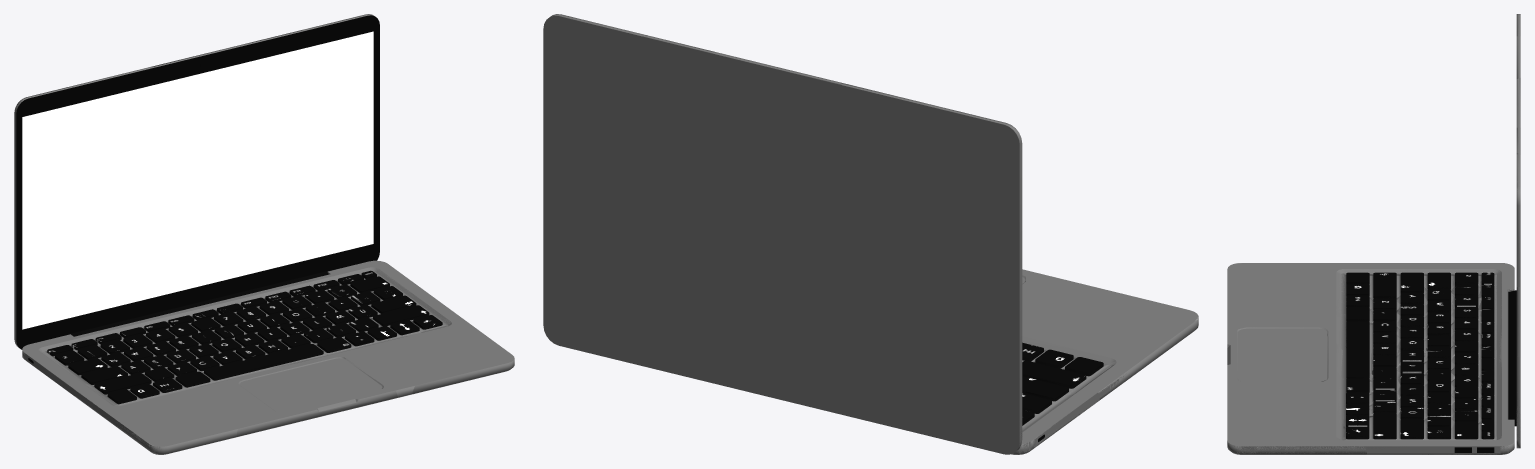
3 renders of one model, left to right at view 1: azimuth 30°, elevation 25°; view 2: azimuth 150°, elevation 25°; view 3: azimuth 270°, elevation 25°, orthographic. The views are drawn at different scales.
Parts seen in each view (by area): view 1: Screen, Frame, Frame_ComputerFrame_0_cell.003, Frame_ComputerFrame_0_cell.005, Frame_ComputerFrame_0_cell.011, Frame_ComputerFrame_0_cell.006, Frame_ComputerFrame_0_cell.008, Frame_ComputerFrame_0_cell.002, Frame_ComputerFrame_0_cell.010, Frame_ComputerFrame_0_cell.012, Frame_ComputerFrame_0_cell.009, Frame_ComputerFrame_0_cell.007 (+1 smaller); view 2: Screen_ComputerScreen_0_cell.002, Screen_ComputerScreen_0_cell.005, Screen_ComputerScreen_0_cell.006, Screen_ComputerScreen_0_cell.003, Screen_ComputerScreen_0_cell, Frame_ComputerFrame_0_cell.003, Screen_ComputerScreen_0_cell.011, Frame, Screen_ComputerScreen_0_cell.012, Screen_ComputerScreen_0_cell.001, Screen_ComputerScreen_0_cell.008, Screen_ComputerScreen_0_cell.009 (+4 smaller); view 3: Frame, Frame_ComputerFrame_0_cell.003, Frame_ComputerFrame_0_cell.011, Frame_ComputerFrame_0_cell.012, Frame_ComputerFrame_0_cell.008, Frame_ComputerFrame_0_cell.002, Frame_ComputerFrame_0_cell.010, Frame_ComputerFrame_0_cell.005, Frame_ComputerFrame_0_cell.006, Frame_ComputerFrame_0_cell.009, Frame_ComputerFrame_0_cell.004, Frame_ComputerFrame_0_cell.007 (+5 smaller).
Part boxes in pixels (<box>): Screen: <box>14,14,379,349</box>; Frame: <box>22,261,514,454</box>; Frame_ComputerFrame_0_cell.003: <box>74,359,237,454</box>; Frame_ComputerFrame_0_cell.005: <box>411,315,514,394</box>; Frame_ComputerFrame_0_cell.011: <box>331,260,449,335</box>; Frame_ComputerFrame_0_cell.006: <box>299,322,415,397</box>; Frame_ComputerFrame_0_cell.008: <box>247,261,371,335</box>; Frame_ComputerFrame_0_cell.002: <box>132,310,231,369</box>; Frame_ComputerFrame_0_cell.010: <box>216,343,397,437</box>; Frame_ComputerFrame_0_cell.012: <box>180,333,306,400</box>; Frame_ComputerFrame_0_cell.009: <box>189,294,280,335</box>; Frame_ComputerFrame_0_cell.007: <box>22,344,114,388</box>; Screen_ComputerScreen_0_cell.002: <box>781,229,1021,438</box>; Screen_ComputerScreen_0_cell.005: <box>735,123,945,347</box>; Screen_ComputerScreen_0_cell.006: <box>568,233,793,402</box>; Screen_ComputerScreen_0_cell.003: <box>543,35,684,258</box>; Screen_ComputerScreen_0_cell: <box>644,35,756,286</box>; Frame_ComputerFrame_0_cell.003: <box>1022,288,1198,400</box>; Screen_ComputerScreen_0_cell.011: <box>926,109,1019,270</box>; Frame: <box>1018,270,1198,454</box>; Screen_ComputerScreen_0_cell.012: <box>713,52,853,132</box>; Screen_ComputerScreen_0_cell.001: <box>543,14,645,130</box>; Screen_ComputerScreen_0_cell.008: <box>840,82,951,172</box>; Screen_ComputerScreen_0_cell.009: <box>543,221,582,349</box>; Frame: <box>1227,263,1514,454</box>; Frame_ComputerFrame_0_cell.003: <box>1227,263,1435,314</box>; Frame_ComputerFrame_0_cell.011: <box>1339,397,1514,454</box>; Frame_ComputerFrame_0_cell.012: <box>1312,311,1426,378</box>; Frame_ComputerFrame_0_cell.008: <box>1397,371,1514,447</box>; Frame_ComputerFrame_0_cell.002: <box>1384,301,1508,351</box>; Frame_ComputerFrame_0_cell.010: <box>1227,304,1373,383</box>; Frame_ComputerFrame_0_cell.005: <box>1227,401,1366,454</box>; Frame_ComputerFrame_0_cell.006: <box>1251,375,1406,419</box>; Frame_ComputerFrame_0_cell.009: <box>1410,347,1508,379</box>; Frame_ComputerFrame_0_cell.004: <box>1429,268,1514,322</box>; Frame_ComputerFrame_0_cell.007: <box>1397,263,1514,293</box>.
Size of the model in its own units: 30.4 by 20.56 by 20.5.
2 materials, 2 textured.
